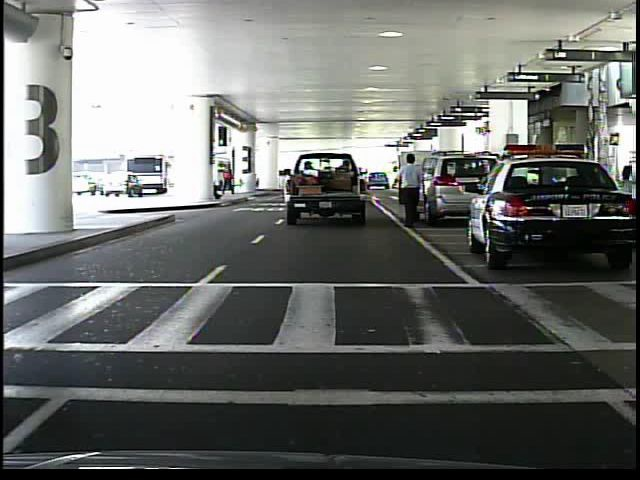person: (394, 152, 433, 230), (221, 160, 237, 198)
